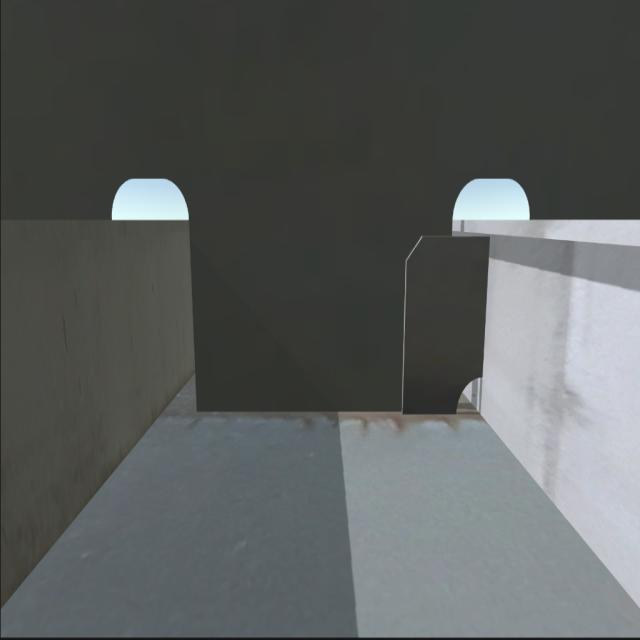fillet_hole: (452, 370, 487, 414)
fillet_yong_jeop_jang: (188, 401, 456, 423)
longi_yong_jeop_jang: (477, 233, 502, 378)
plate_CP03: (399, 234, 492, 420)
